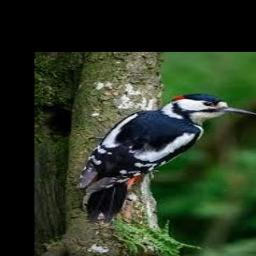Woodpecker: (75, 93, 256, 223)
